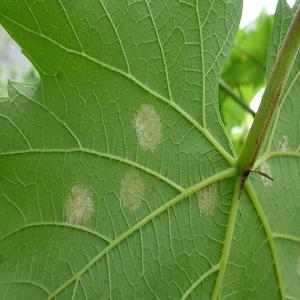Folha: (0, 1, 300, 300)
Fungo: (133, 102, 163, 153), (63, 182, 95, 226), (119, 166, 147, 213), (196, 182, 217, 216), (258, 160, 274, 186), (278, 134, 288, 151)
